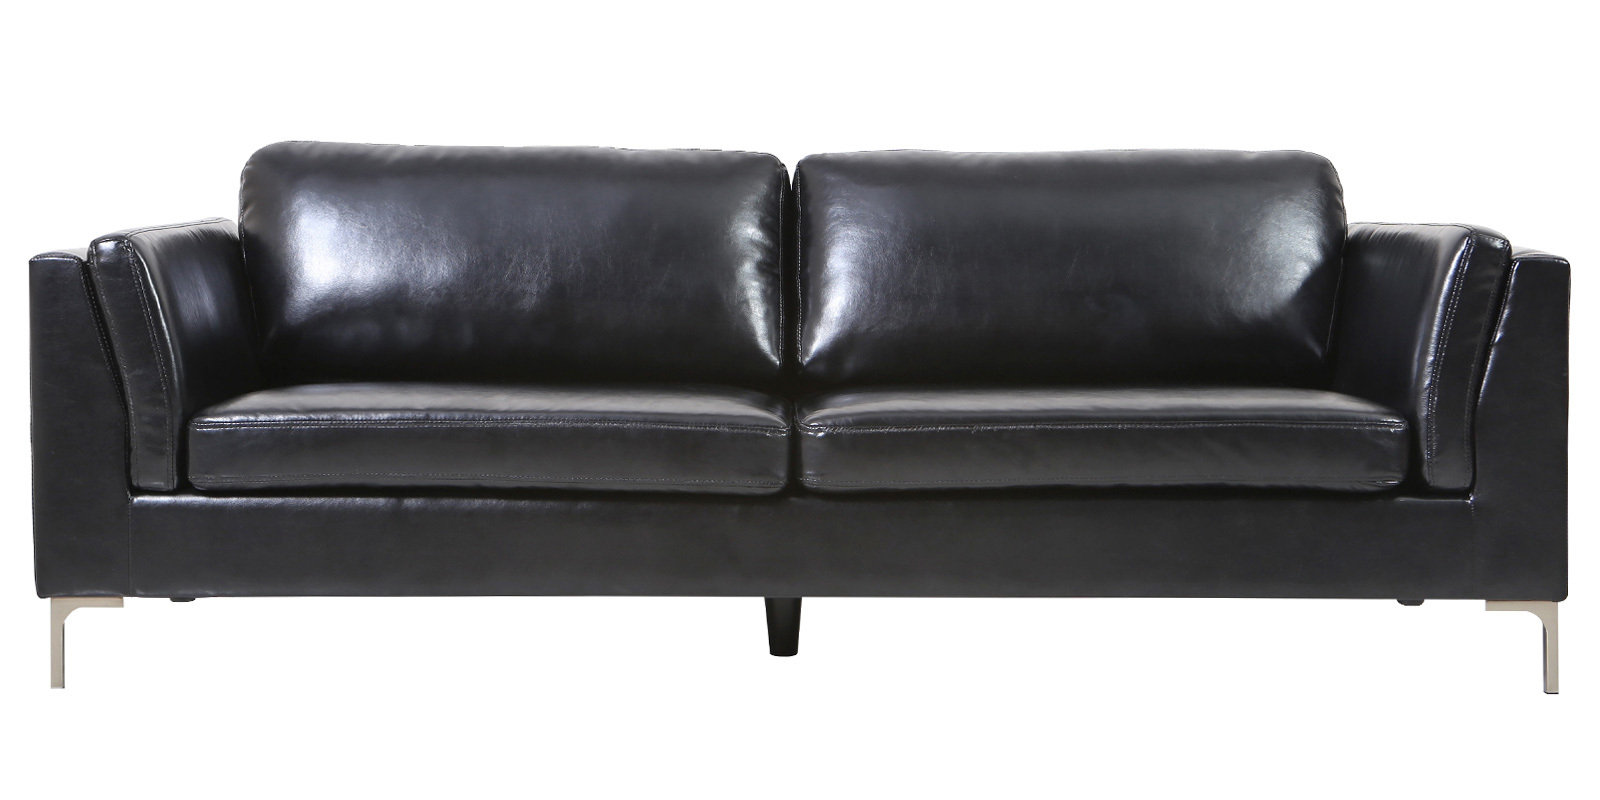Forma Three Seater Sofa in Black Colour by Zofa: (13, 119, 1600, 735)
